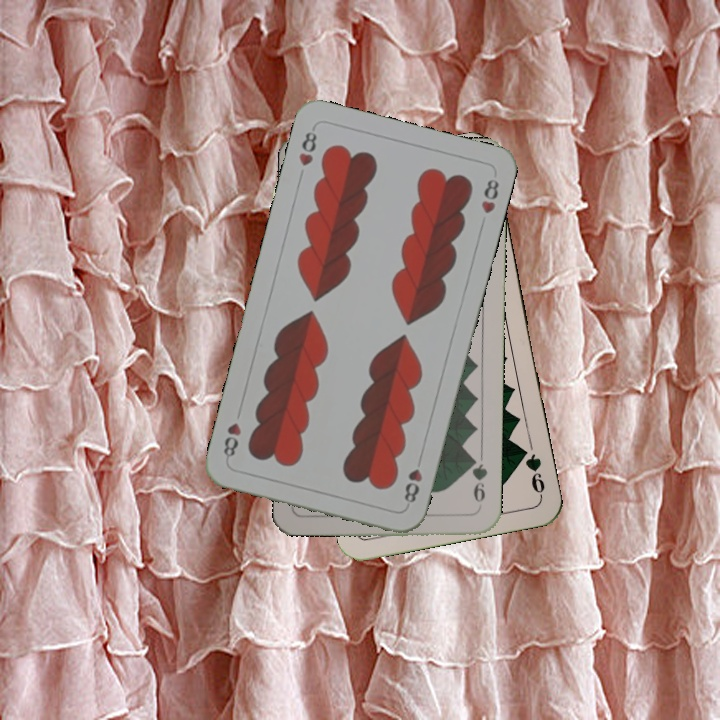G9: (516, 443, 548, 500), (467, 453, 490, 512)
H8: (294, 123, 320, 169), (400, 465, 425, 509)
